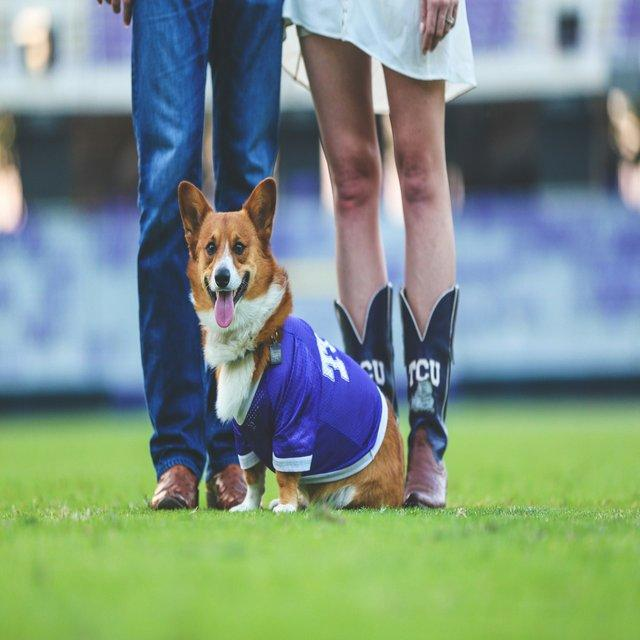corgi: (175, 175, 407, 514)
